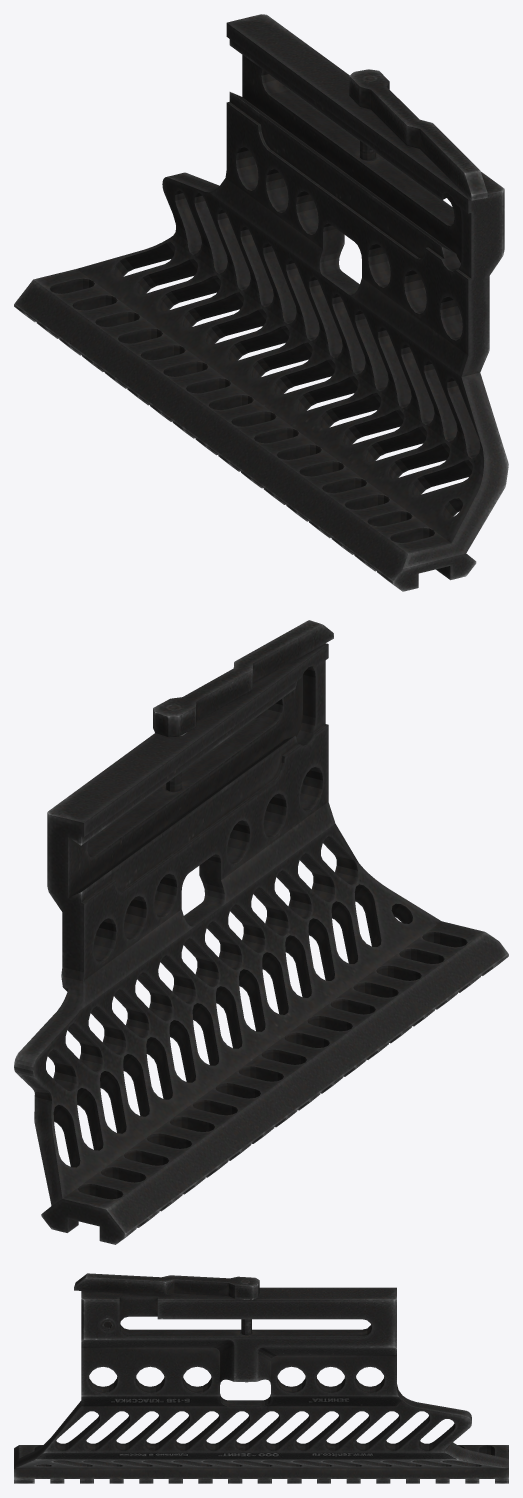
3 renders of one model, top to bottom at view 1: azimuth 30°, elevation 25°; view 2: azimuth 150°, elevation 25°; view 3: azimuth 270°, elevation 25°, orthographic. The views are drawn at different scales.
Parts seen in each view (by area): view 1: TW_5c90c3622e221601da359851_PZ_Import; view 2: TW_5c90c3622e221601da359851_PZ_Import; view 3: TW_5c90c3622e221601da359851_PZ_Import.
Boxes of the visible parts, x1,y1,x2,y2 form: TW_5c90c3622e221601da359851_PZ_Import: (14,14,508,591); TW_5c90c3622e221601da359851_PZ_Import: (14,620,508,1244); TW_5c90c3622e221601da359851_PZ_Import: (14,1273,508,1483).
Bounding box in the file's own units: 0.0249 × 0.0966 × 0.049.
Materials: 1 (1 with a texture image).
